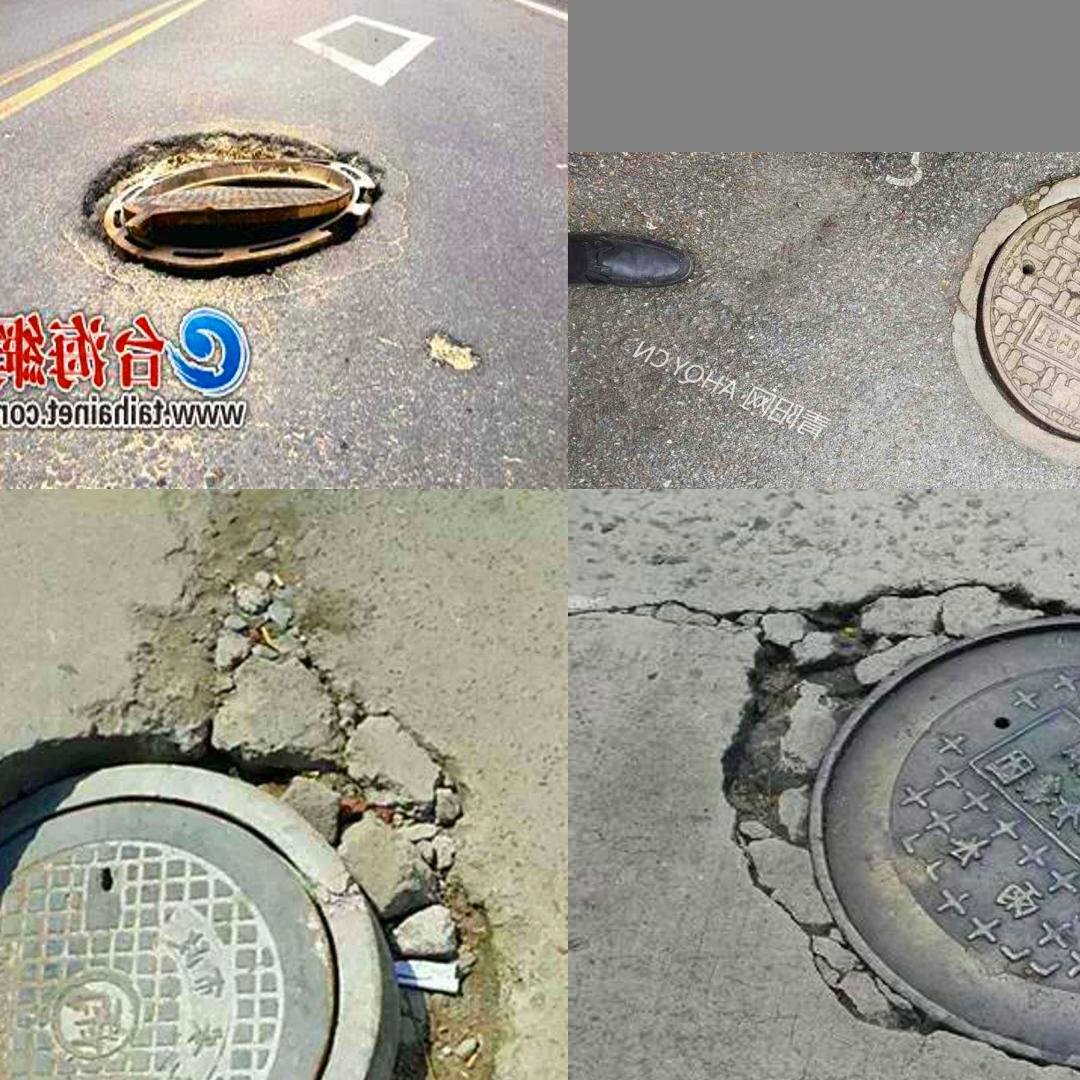circle: (0, 557, 487, 1080), (706, 560, 1080, 1080), (35, 114, 450, 313), (926, 164, 1080, 475)
